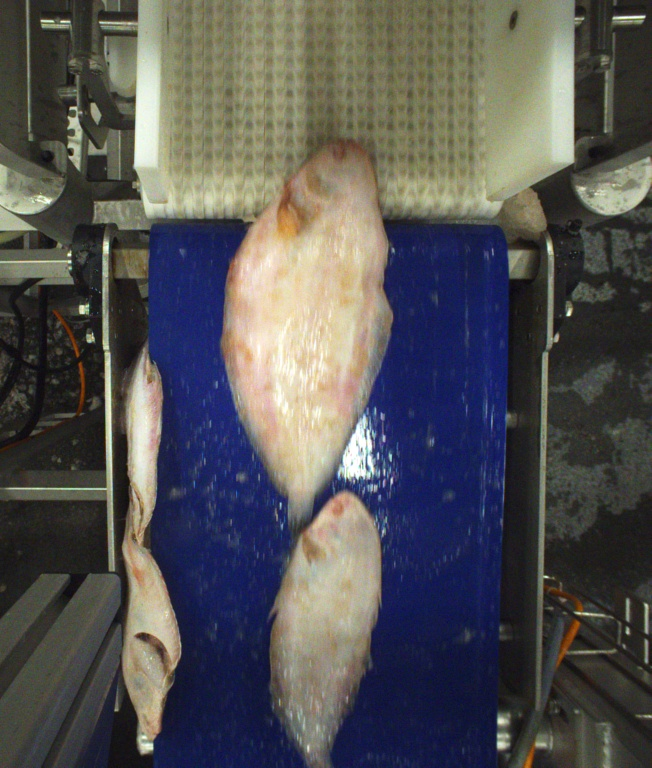SOL: (275, 487, 382, 768)
